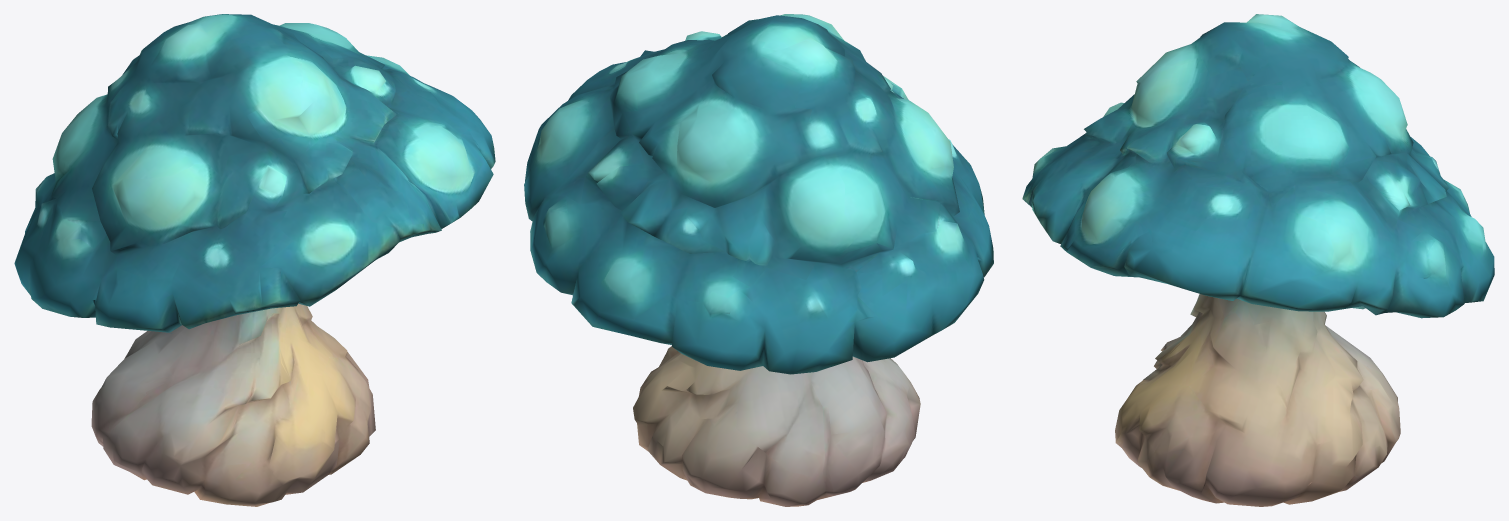
File: mushroom_giant.glb
3 views of the same model, side by side, from view 1: azimuth 30°, elevation 25°; view 2: azimuth 150°, elevation 25°; view 3: azimuth 270°, elevation 25° (orthographic).
Parts seen in each view (by area): view 1: mushroom_giant; view 2: mushroom_giant; view 3: mushroom_giant.
Part boxes in pixels (box(x1,y1,x2,y2)): mushroom_giant: box(14, 14, 495, 506); mushroom_giant: box(524, 14, 993, 506); mushroom_giant: box(1022, 14, 1494, 506).
Bounding box in the file's own units: 6.99 × 7 × 6.78.
1 material, 1 textured.
